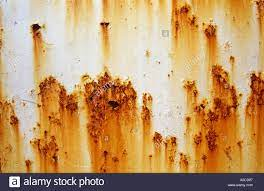rust: (33, 74, 145, 119), (182, 75, 242, 126), (83, 122, 114, 170), (31, 128, 66, 165), (169, 5, 201, 34), (189, 130, 221, 153), (198, 22, 226, 44), (150, 131, 182, 150), (26, 19, 46, 42), (6, 112, 22, 131), (94, 19, 113, 31)
